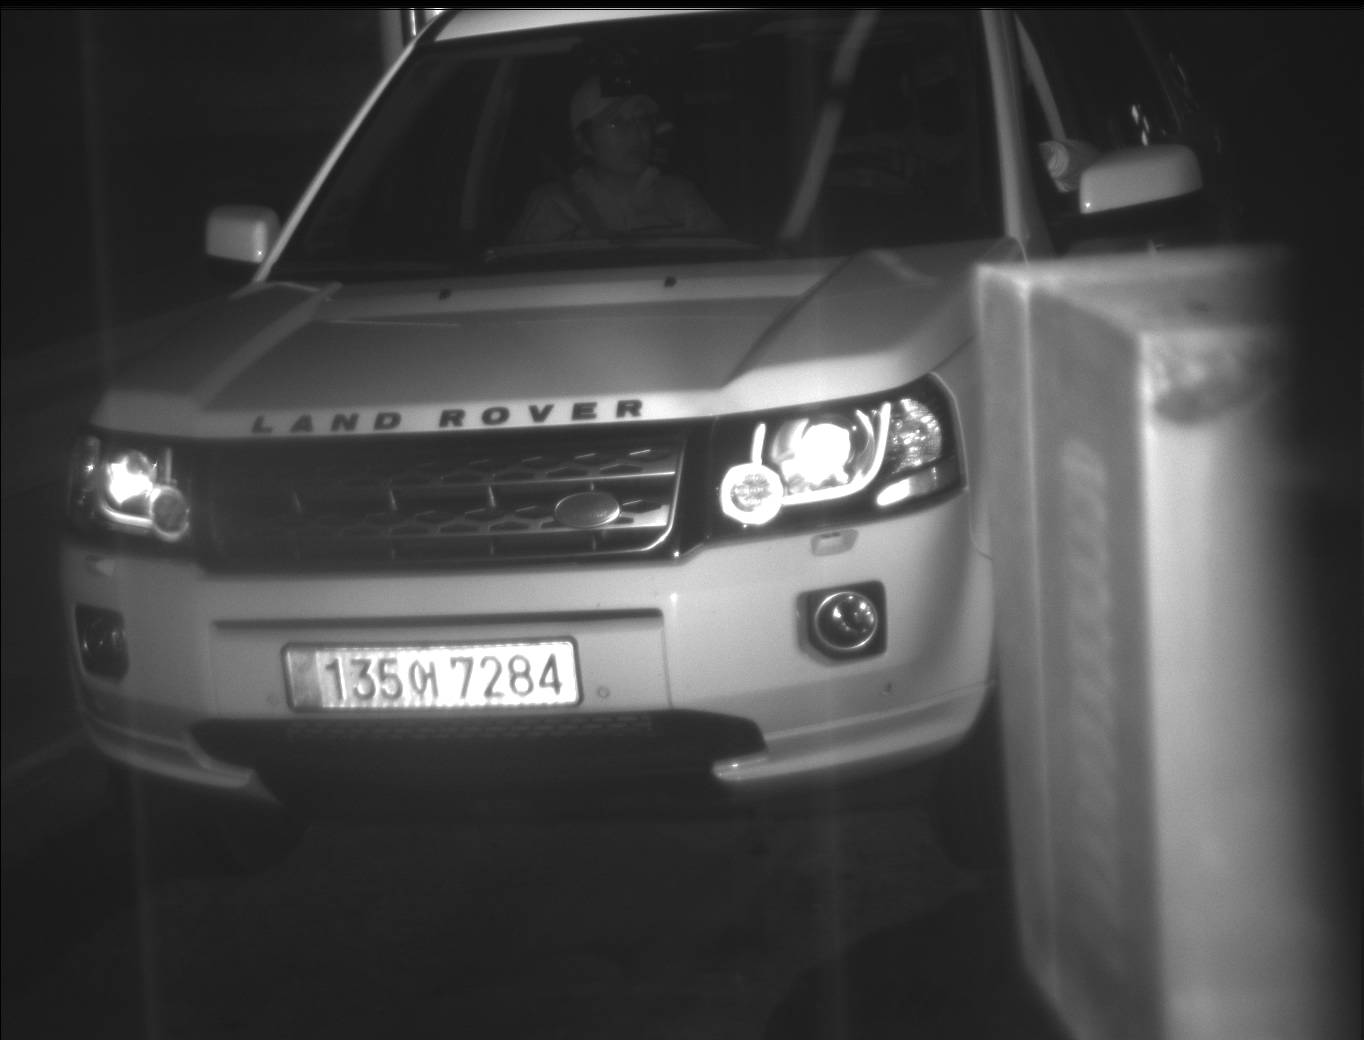car: (60, 1, 999, 877)
plate: (278, 642, 579, 709)
